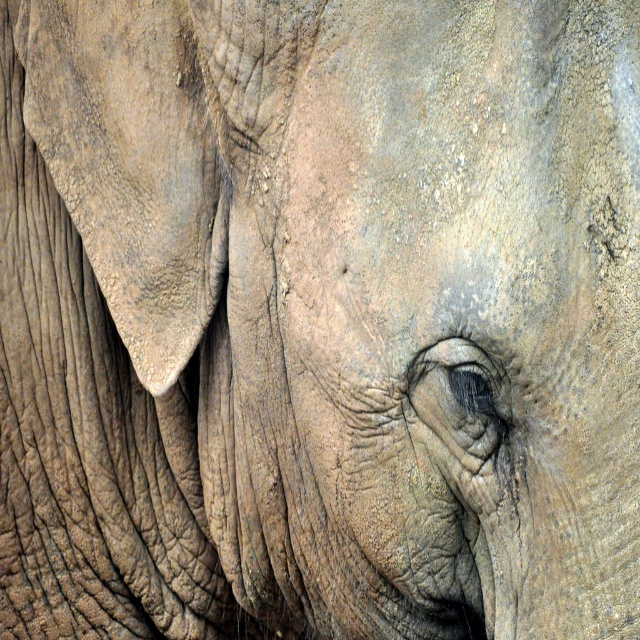Elephant: (4, 14, 614, 640)
